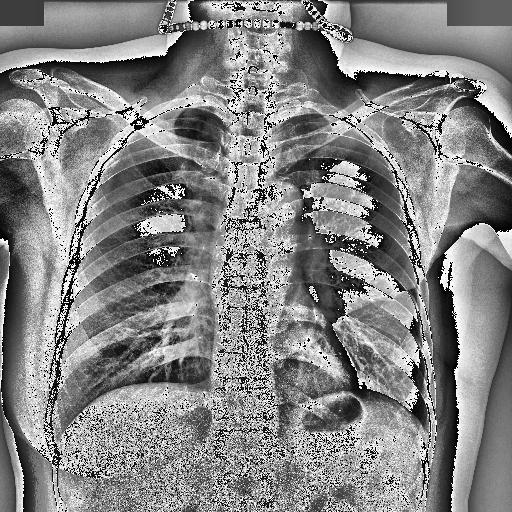0- Aortic enlargement: (255, 179, 301, 238), (254, 180, 302, 224)
9- Other lesion: (328, 284, 428, 422)
